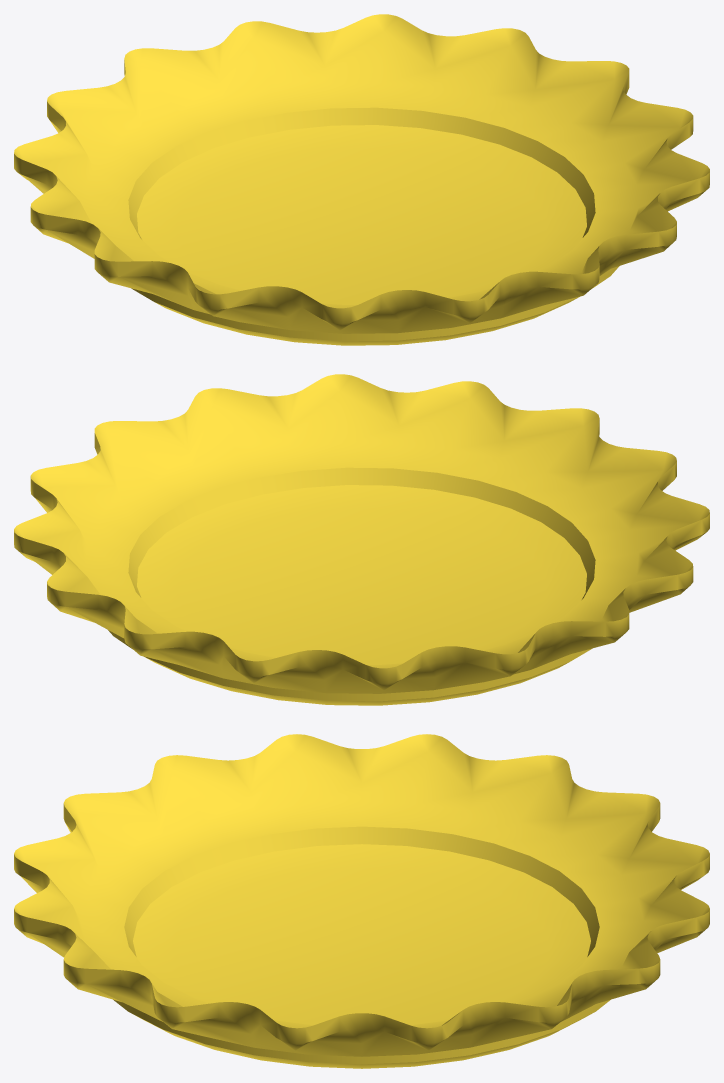
The model's file is bandejaTorta.fbx.
3 views of the same model, one above another, from view 1: azimuth 30°, elevation 25°; view 2: azimuth 150°, elevation 25°; view 3: azimuth 270°, elevation 25° (orthographic).
Visible parts, largest first — view 1: bandejaTorta; view 2: bandejaTorta; view 3: bandejaTorta.
Part boxes in pixels (box(x1,y1,x2,y2)): bandejaTorta: box(14, 14, 709, 345); bandejaTorta: box(14, 374, 709, 705); bandejaTorta: box(14, 734, 709, 1068).
Size of the model in its own units: 103 by 12.38 by 103.
